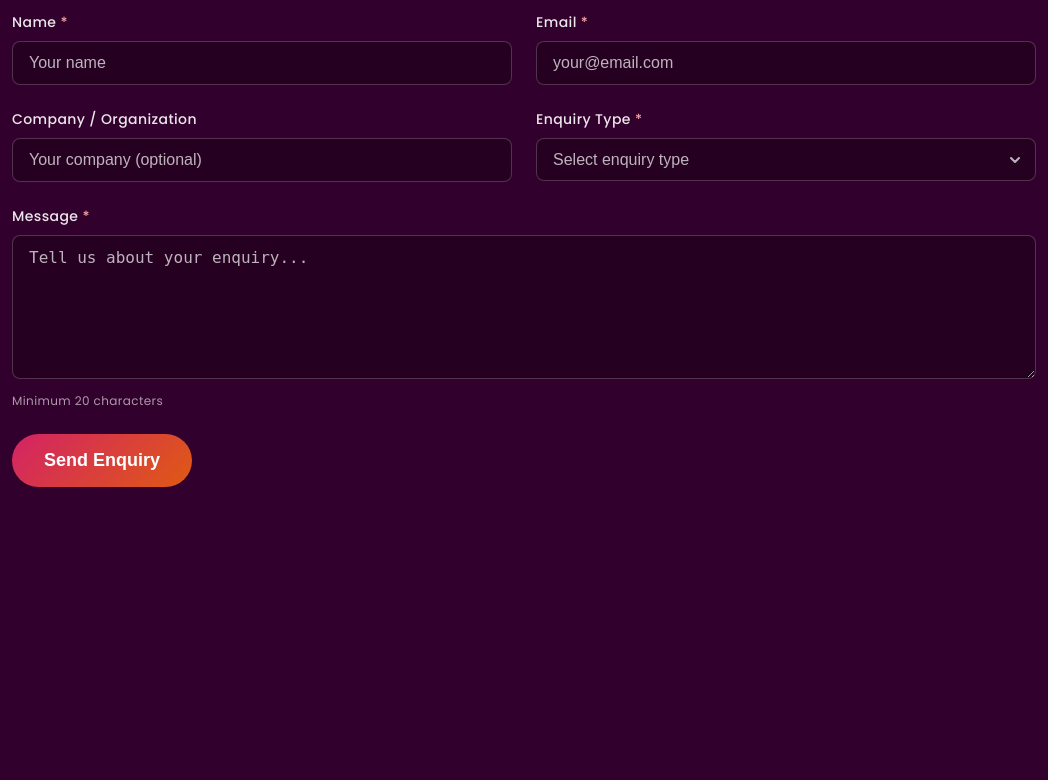
it: EnquiryForm › shows validation error for missing enquiry type
Type "John Doe" into the field labelled "Name *" at (262, 63), box 12,41 -> 512,85
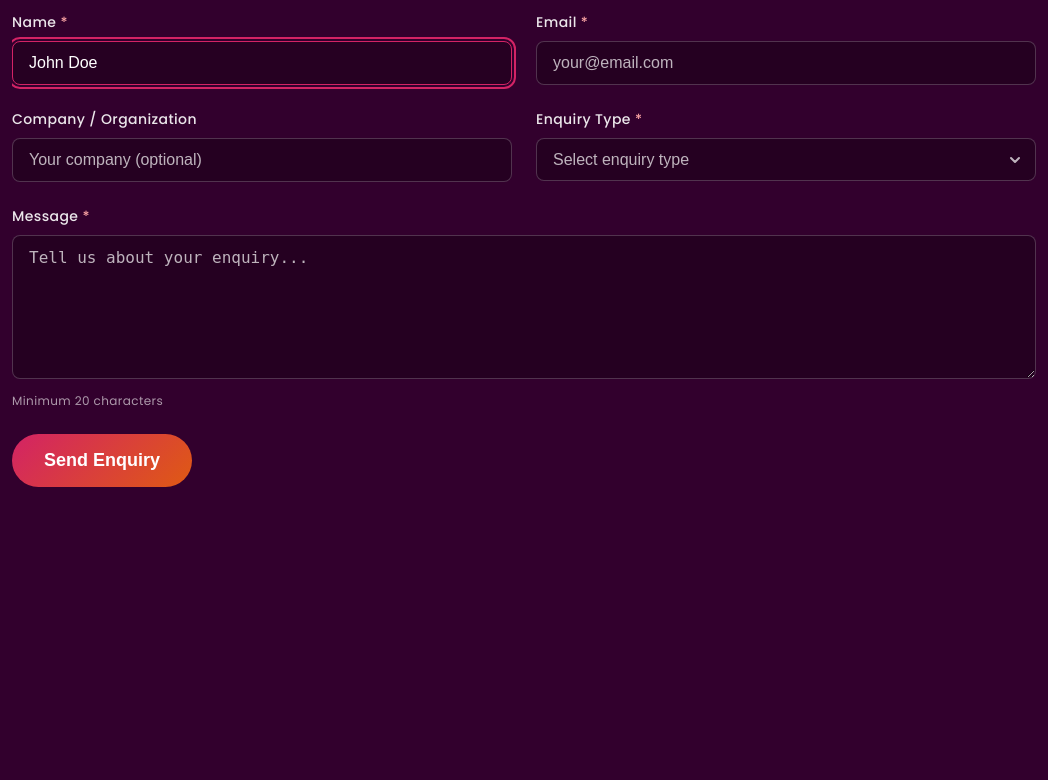
Type "john@example.com" into the field labelled "Email *" at (786, 63), box 536,41 -> 1036,85
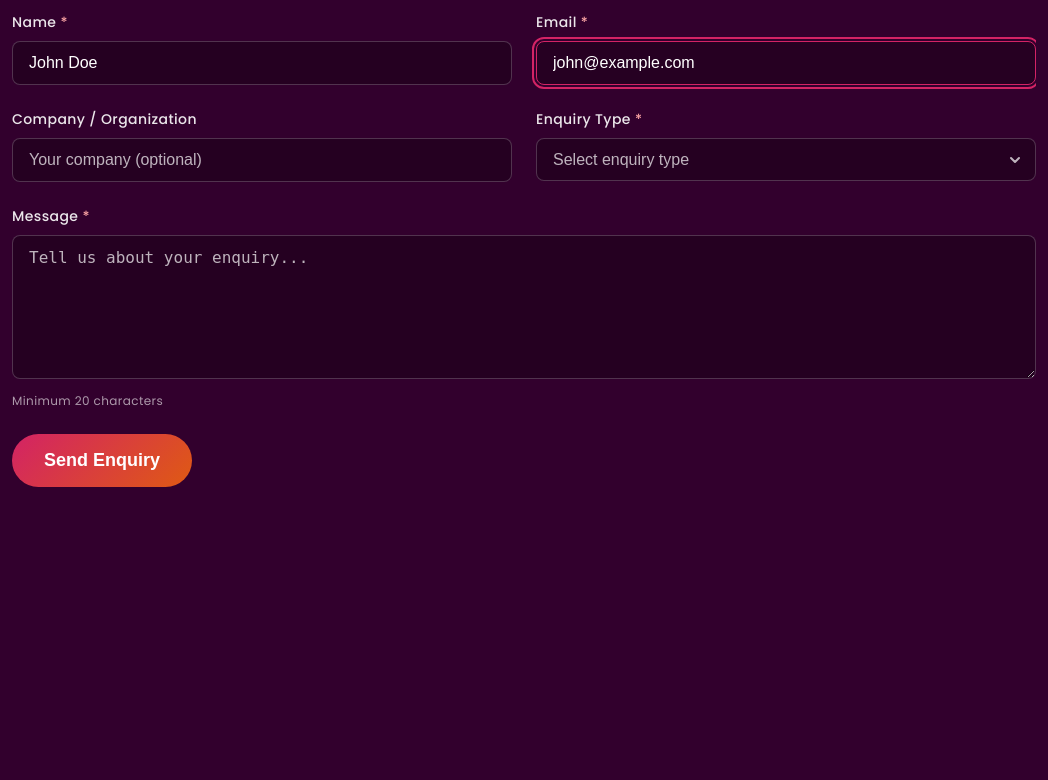
Click the button "Send Enquiry" at (102, 460), box 12,434 -> 192,487
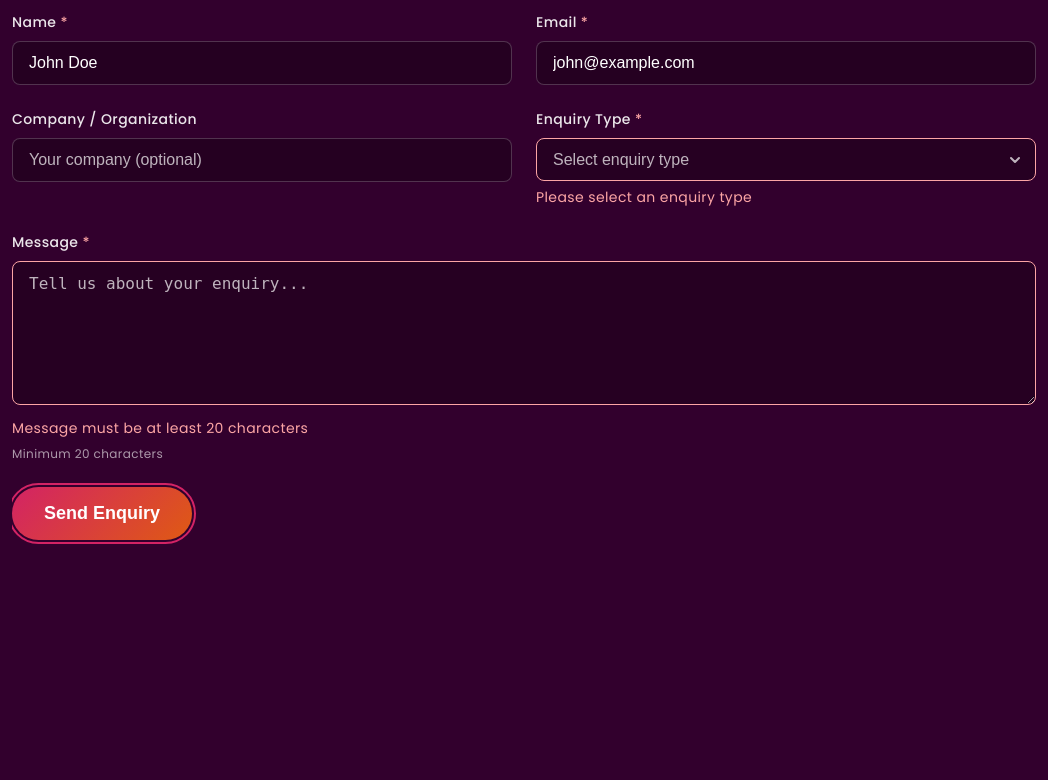
Result: the text "Please select an enquiry type" is shown at 536,187 -> 752,207
